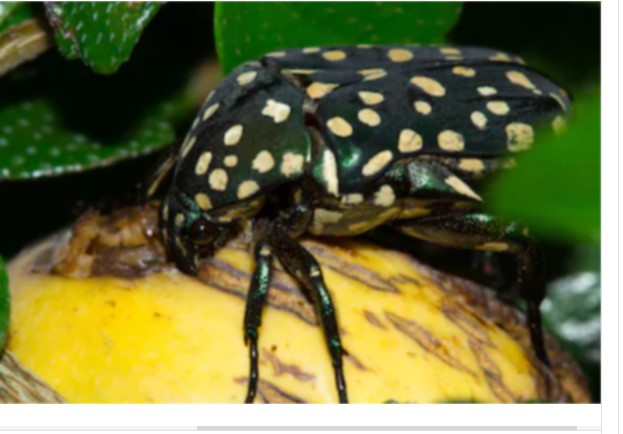Protaetia_niveoguttata: (147, 36, 581, 404)
